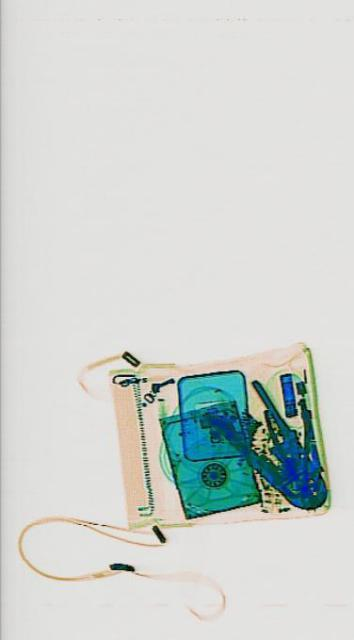Pliers: (212, 358, 333, 534)
